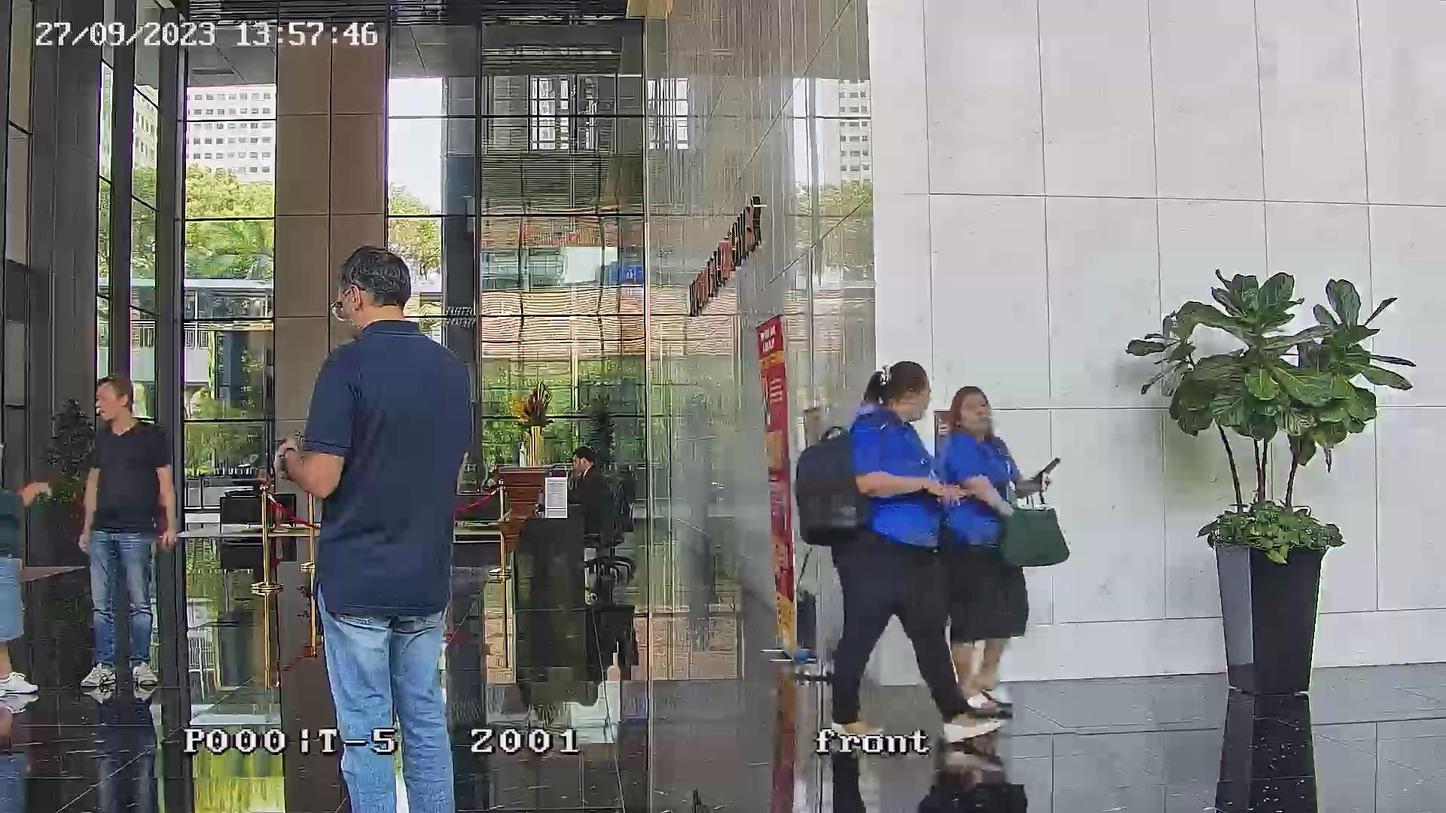person: (276, 244, 472, 807), (823, 361, 1006, 746), (938, 385, 1056, 718), (77, 374, 177, 697), (1, 438, 50, 697), (566, 443, 614, 533)
